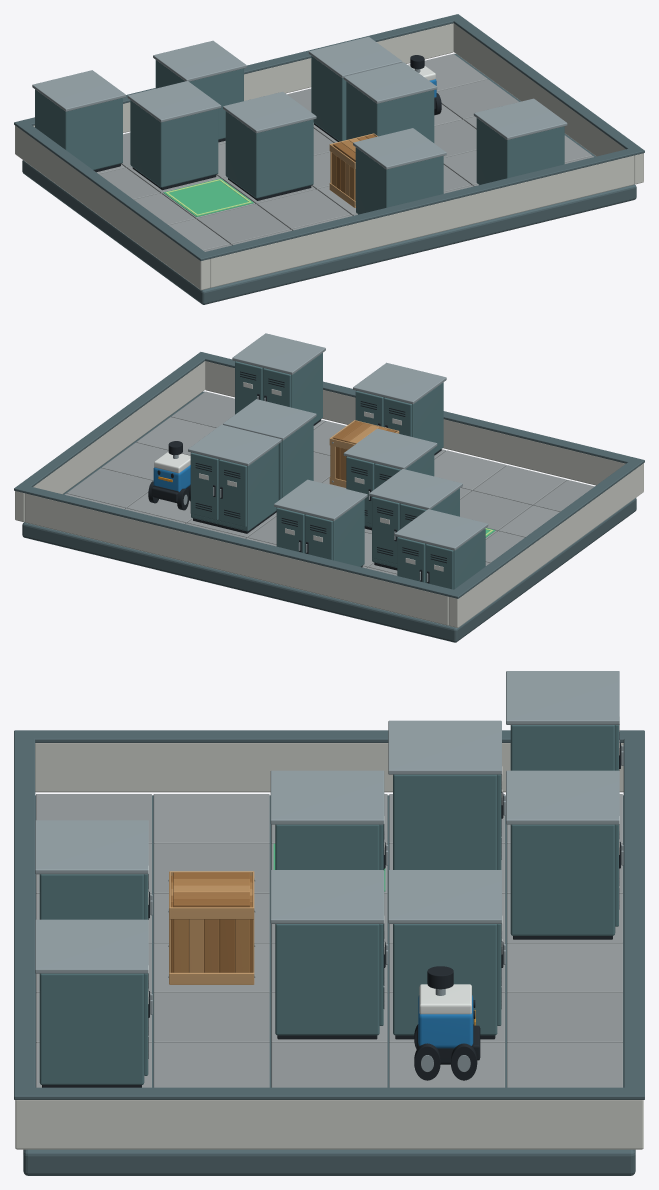
3 renders of one model, top to bottom at view 1: azimuth 30°, elevation 25°; view 2: azimuth 150°, elevation 25°; view 3: azimuth 270°, elevation 25°, orthographic. The views are drawn at different scales.
Parts seen in each view (by area): view 1: Cutaway wall.002, Floor foundation, obstacle_1, obstacle_2, obstacle_0, obstacle_7, obstacle_4, Cutaway wall, obstacle_5, obstacle_6, Cutaway wall.001, obstacle_3 (+20 smaller); view 2: Cutaway wall.003, Floor foundation, obstacle_6, Cutaway wall.002, obstacle_3, obstacle_7, Cutaway wall, obstacle_0, obstacle_4, Cutaway wall.001, obstacle_1, obstacle_5 (+21 smaller); view 3: Cutaway wall.001, Floor foundation, obstacle_5, obstacle_3, obstacle_7, obstacle_1, Cutaway wall, obstacle_6, obstacle_2, obstacle_4, obstacle_0, crate (+19 smaller).
Boxes of the visible parts, box(x1,y1,x2,y2) form: Cutaway wall.002: box(210, 155, 634, 287); Floor foundation: box(22, 53, 636, 304); obstacle_1: box(127, 81, 221, 190); obstacle_2: box(223, 91, 316, 200); obstacle_0: box(32, 70, 125, 172); obstacle_7: box(473, 98, 567, 184); obstacle_4: box(353, 128, 446, 214); Cutaway wall: box(15, 125, 210, 290); obstacle_5: box(343, 62, 437, 142); obstacle_6: box(308, 36, 402, 141); Cutaway wall.001: box(453, 23, 643, 184); obstacle_3: box(153, 40, 246, 142); Cutaway wall.003: box(24, 493, 448, 625); Floor foundation: box(22, 391, 636, 642); obstacle_6: box(188, 424, 281, 533); Cutaway wall.002: box(205, 361, 625, 485); obstacle_3: box(274, 479, 367, 567); obstacle_7: box(232, 333, 325, 425); Cutaway wall: box(448, 463, 643, 627); obstacle_0: box(394, 509, 488, 589); obstacle_4: box(353, 362, 446, 455); Cutaway wall.001: box(15, 361, 205, 522); obstacle_1: box(369, 469, 462, 570); obstacle_5: box(223, 399, 316, 500); Cutaway wall.001: box(15, 1100, 643, 1149); Floor foundation: box(23, 795, 635, 1175); obstacle_5: box(270, 870, 388, 1039); obstacle_3: box(506, 770, 623, 939); obstacle_7: box(35, 919, 152, 1087); obstacle_1: box(388, 720, 505, 869); Cutaway wall: box(35, 743, 623, 792); obstacle_6: box(388, 870, 505, 1039); obstacle_2: box(270, 770, 388, 870); obstacle_4: box(35, 820, 152, 919); obstacle_0: box(506, 671, 623, 770); crate: box(168, 871, 255, 984).
Size of the model in its own units: 7.36 by 1.44 by 5.36.
